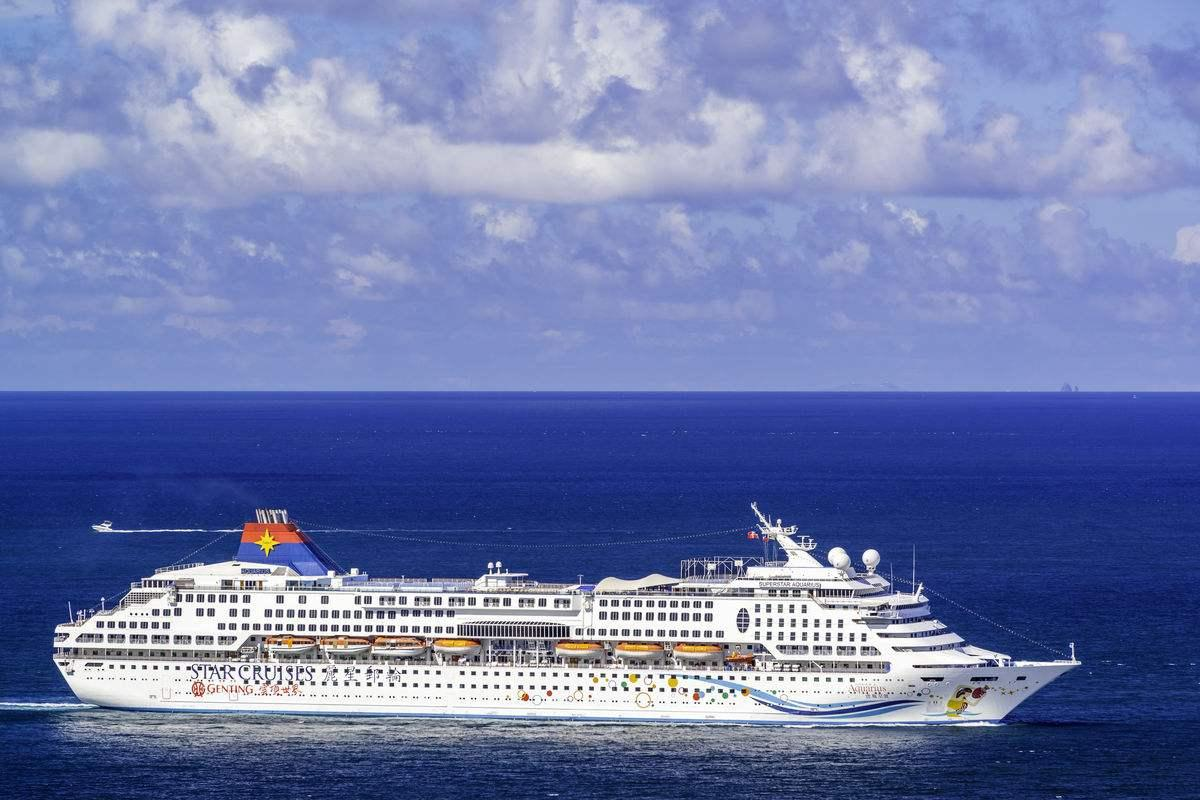youlun: (36, 499, 1097, 718)
